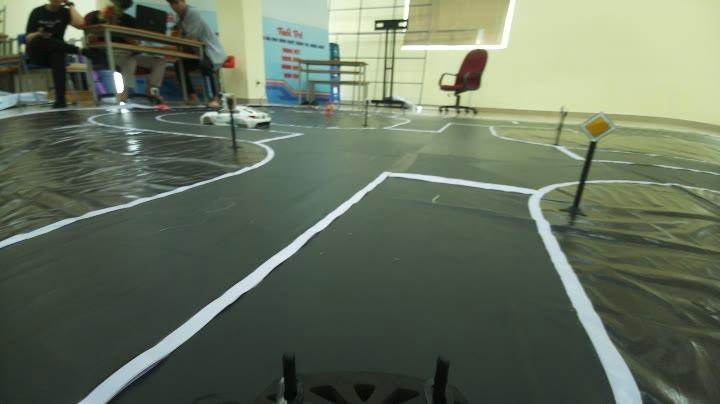priority: (579, 104, 616, 148)
